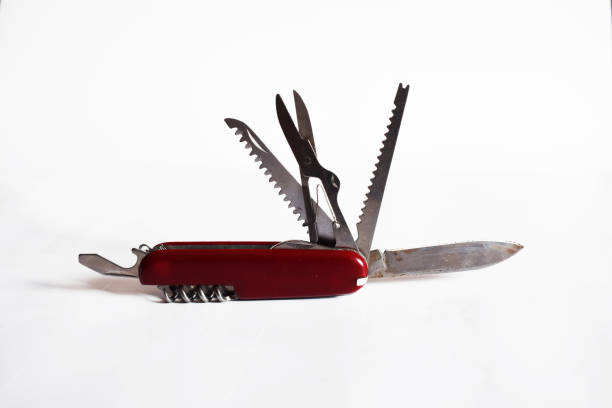knife: (218, 116, 340, 246), (353, 82, 416, 258), (367, 238, 526, 280), (77, 246, 147, 281)
